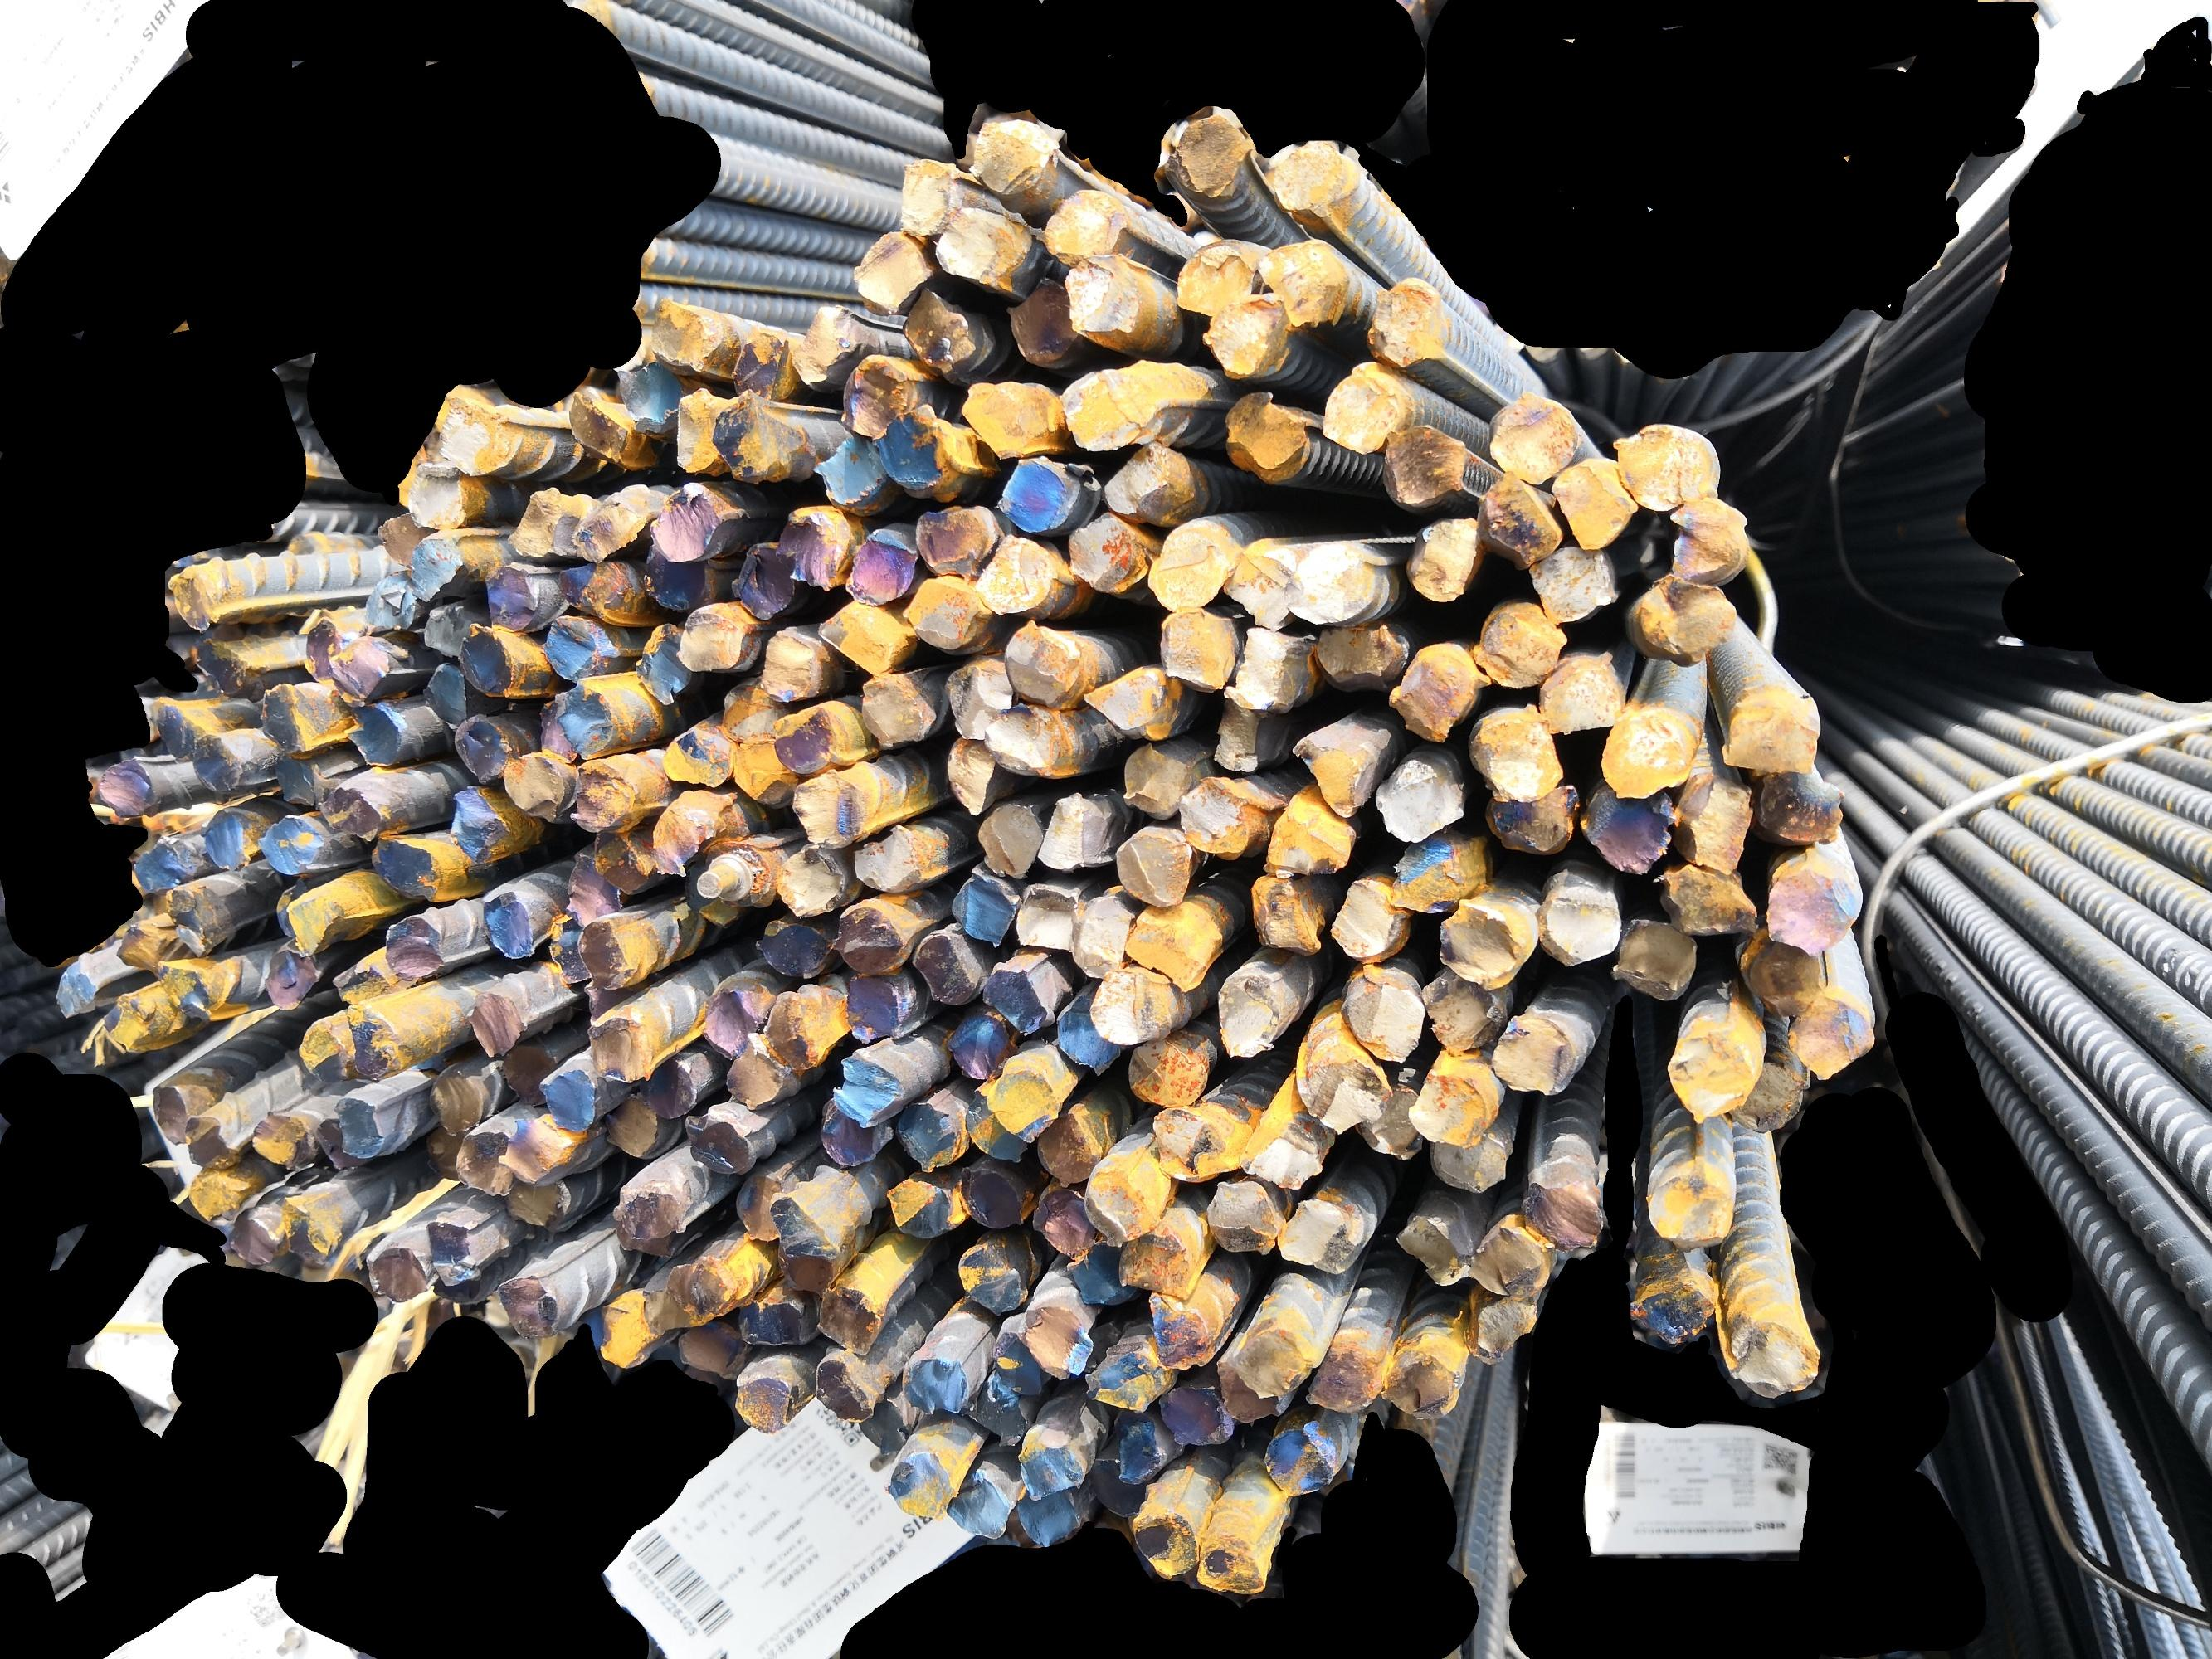bar: (1386, 638, 1490, 742), (1056, 361, 1171, 450), (1612, 422, 1724, 511), (1468, 702, 1564, 802), (1663, 1023, 1759, 1121), (711, 389, 807, 484), (1126, 897, 1224, 992), (1469, 598, 1567, 692), (1436, 896, 1534, 990), (1388, 828, 1490, 917), (1633, 577, 1736, 666), (1483, 387, 1576, 483), (1579, 781, 1672, 877), (1285, 538, 1386, 626), (1762, 864, 1858, 955), (1600, 709, 1698, 798), (1147, 519, 1238, 613), (1225, 389, 1313, 486), (1722, 688, 1820, 775), (1726, 1310, 1823, 1398), (1476, 469, 1562, 568), (1164, 112, 1255, 204), (1374, 751, 1466, 842), (1084, 1150, 1170, 1248), (1199, 291, 1292, 380), (1318, 359, 1407, 451), (1264, 789, 1356, 878), (1551, 457, 1637, 552), (1098, 441, 1198, 523), (899, 284, 985, 378), (875, 403, 959, 498), (1787, 995, 1879, 1080), (1264, 235, 1347, 329), (976, 532, 1065, 619), (1227, 622, 1314, 711), (967, 117, 1058, 202), (1062, 253, 1147, 343), (1342, 971, 1426, 1063), (960, 378, 1055, 460), (816, 599, 915, 676), (1382, 422, 1468, 511), (1738, 927, 1823, 1016), (1300, 1047, 1391, 1131), (1679, 774, 1754, 875), (1328, 871, 1410, 964), (1152, 1103, 1246, 1183), (1483, 781, 1581, 857), (1611, 915, 1698, 1000), (903, 572, 992, 655), (1645, 1166, 1736, 1248), (1006, 274, 1084, 368), (1365, 277, 1443, 371), (1537, 652, 1626, 734), (995, 455, 1088, 533), (1037, 185, 1131, 261), (1750, 769, 1844, 845), (1178, 774, 1264, 857), (1490, 1011, 1576, 1094), (1419, 971, 1504, 1054), (1666, 498, 1748, 586), (647, 483, 736, 563), (936, 204, 1016, 293), (1232, 1321, 1323, 1399), (1217, 967, 1292, 1061), (1271, 136, 1354, 220), (650, 795, 732, 880), (1469, 1216, 1551, 1302), (438, 399, 525, 479), (1238, 1110, 1325, 1190), (1527, 544, 1616, 622), (1626, 1267, 1715, 1345), (763, 983, 840, 1073), (1081, 664, 1173, 739), (1537, 884, 1621, 965), (1225, 533, 1297, 629), (1089, 967, 1175, 1047), (1292, 730, 1370, 817), (1659, 864, 1757, 934), (1407, 1070, 1497, 1145), (788, 767, 870, 849), (854, 228, 933, 314), (838, 350, 915, 437), (1159, 605, 1236, 692), (1407, 514, 1480, 605), (647, 295, 727, 376), (858, 666, 938, 748), (1110, 826, 1191, 908), (1002, 620, 1075, 709), (1067, 512, 1145, 594), (1246, 873, 1325, 955), (1278, 1197, 1360, 1276), (1727, 1058, 1809, 1136), (1520, 1175, 1604, 1251), (1175, 239, 1260, 314), (770, 504, 842, 592), (831, 896, 912, 974), (828, 1046, 906, 1126), (811, 432, 887, 514), (729, 321, 802, 406), (575, 915, 655, 992), (1262, 1419, 1342, 1495), (915, 505, 997, 580), (772, 702, 854, 777), (765, 1185, 847, 1260), (983, 704, 1065, 779), (1381, 1345, 1462, 1420), (1084, 1344, 1171, 1413), (1123, 1037, 1210, 1107), (952, 1239, 1030, 1316), (1391, 1209, 1469, 1286), (1203, 1176, 1278, 1256), (720, 1030, 793, 1112), (1053, 986, 1121, 1073), (844, 526, 919, 605), (980, 957, 1053, 1037), (727, 538, 798, 620), (973, 796, 1042, 880), (945, 653, 1013, 739), (1313, 624, 1400, 690), (282, 885, 359, 960), (1013, 1424, 1089, 1499), (983, 1066, 1058, 1143), (368, 831, 446, 904), (694, 835, 772, 908), (1018, 1302, 1091, 1380), (1145, 1293, 1218, 1371), (1117, 1229, 1198, 1300), (791, 301, 856, 389), (162, 884, 237, 958), (166, 559, 241, 634), (570, 488, 647, 561), (772, 842, 845, 918), (497, 1114, 575, 1185), (757, 624, 828, 702), (676, 601, 753, 673), (1121, 742, 1192, 819), (816, 1096, 894, 1166), (1069, 892, 1131, 979), (1028, 1180, 1096, 1260), (640, 545, 723, 610), (851, 821, 924, 894), (885, 1448, 959, 1521), (683, 1105, 760, 1175), (910, 927, 978, 1006), (1037, 793, 1105, 871), (1034, 1107, 1098, 1188), (898, 157, 962, 239), (556, 559, 640, 622), (962, 1084, 1025, 1168), (614, 359, 685, 432), (584, 1011, 654, 1086), (699, 979, 767, 1056), (1421, 1134, 1511, 1192), (600, 1284, 661, 1370), (443, 784, 509, 863), (565, 389, 631, 467), (950, 868, 1016, 946), (1304, 1345, 1382, 1412), (553, 680, 617, 760), (633, 620, 692, 708), (607, 1178, 690, 1239), (1466, 1295, 1539, 1364), (462, 983, 530, 1058), (455, 622, 521, 699), (844, 967, 910, 1044), (1065, 1239, 1142, 1305), (1360, 1082, 1426, 1159), (675, 1317, 753, 1382), (424, 1211, 486, 1291), (671, 383, 725, 476), (403, 460, 472, 532), (812, 1277, 880, 1351), (884, 1171, 957, 1239), (894, 1098, 962, 1171), (1131, 1504, 1199, 1577), (345, 1002, 408, 1080), (755, 915, 833, 978), (326, 633, 396, 702), (947, 1009, 1016, 1079), (495, 1270, 563, 1342), (570, 762, 638, 833), (899, 1349, 971, 1417), (1213, 1356, 1285, 1424), (150, 957, 223, 1023), (193, 633, 267, 699), (256, 681, 319, 758), (659, 723, 736, 786), (1210, 697, 1272, 774), (479, 884, 539, 964), (675, 859, 743, 929), (947, 1469, 1014, 1539), (1014, 1478, 1082, 1547), (199, 805, 270, 871), (502, 751, 568, 823), (591, 823, 657, 894), (957, 1162, 1028, 1229), (275, 1192, 340, 1265), (382, 910, 446, 983), (451, 709, 516, 782), (561, 850, 622, 927), (481, 558, 542, 634), (427, 1060, 486, 1138), (256, 810, 324, 878), (540, 613, 607, 683), (1014, 882, 1079, 953), (506, 486, 568, 559), (718, 680, 791, 742), (967, 1371, 1028, 1446), (730, 1168, 790, 1244), (1110, 1405, 1168, 1483), (319, 781, 392, 842), (453, 1124, 514, 1197), (666, 1256, 743, 1314), (772, 1229, 838, 1295), (732, 1366, 797, 1434), (537, 1063, 600, 1133), (732, 737, 795, 807), (345, 699, 406, 770), (1196, 1535, 1267, 1596), (408, 532, 467, 605), (500, 1035, 558, 1110), (736, 1295, 812, 1351), (225, 1202, 289, 1269), (812, 1354, 879, 1419), (1089, 1452, 1152, 1520), (943, 735, 997, 814), (992, 1324, 1048, 1399), (246, 1107, 310, 1171), (94, 753, 159, 817), (363, 1243, 429, 1305), (359, 568, 418, 638), (296, 1014, 354, 1086), (601, 1093, 662, 1159), (190, 730, 249, 798), (129, 833, 193, 894), (263, 945, 322, 1011), (188, 1164, 258, 1220), (103, 990, 162, 1053), (183, 1112, 246, 1171), (502, 1175, 568, 1230), (152, 694, 202, 765), (333, 1094, 385, 1162), (328, 960, 403, 1007), (373, 507, 427, 572), (638, 1279, 704, 1331), (418, 599, 478, 657), (645, 1058, 699, 1121), (146, 1075, 193, 1147), (420, 660, 471, 727), (420, 1122, 472, 1185), (52, 955, 103, 1019), (533, 695, 580, 762), (115, 922, 171, 978), (270, 753, 328, 807), (584, 978, 647, 1026), (856, 1394, 908, 1452), (549, 913, 591, 985), (610, 1220, 680, 1262), (302, 615, 342, 683), (431, 1262, 492, 1305), (270, 880, 309, 939)
